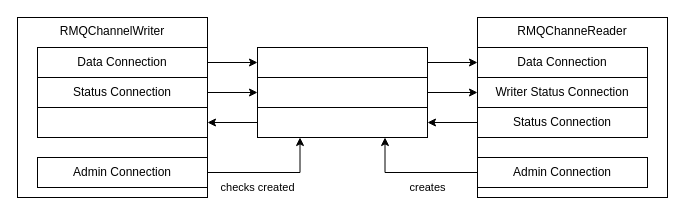
Image size: 685x215. Some labels were removed from this diagram. The centre of each missing label's shape, as x and y in pixels:
"Data Queue" belongs at (x=342, y=62).
"Reader Status Connection" belongs at (x=122, y=122).
"Reader Status Stream" belongs at (x=342, y=122).
"Writer Status Stream" belongs at (x=342, y=92).
